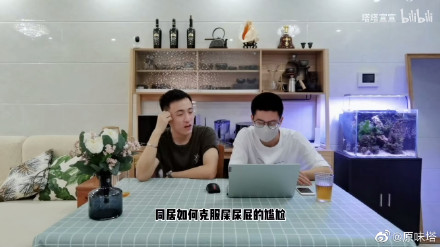correctlyWear: (252, 114, 280, 142)
noWear: (166, 104, 195, 135)
